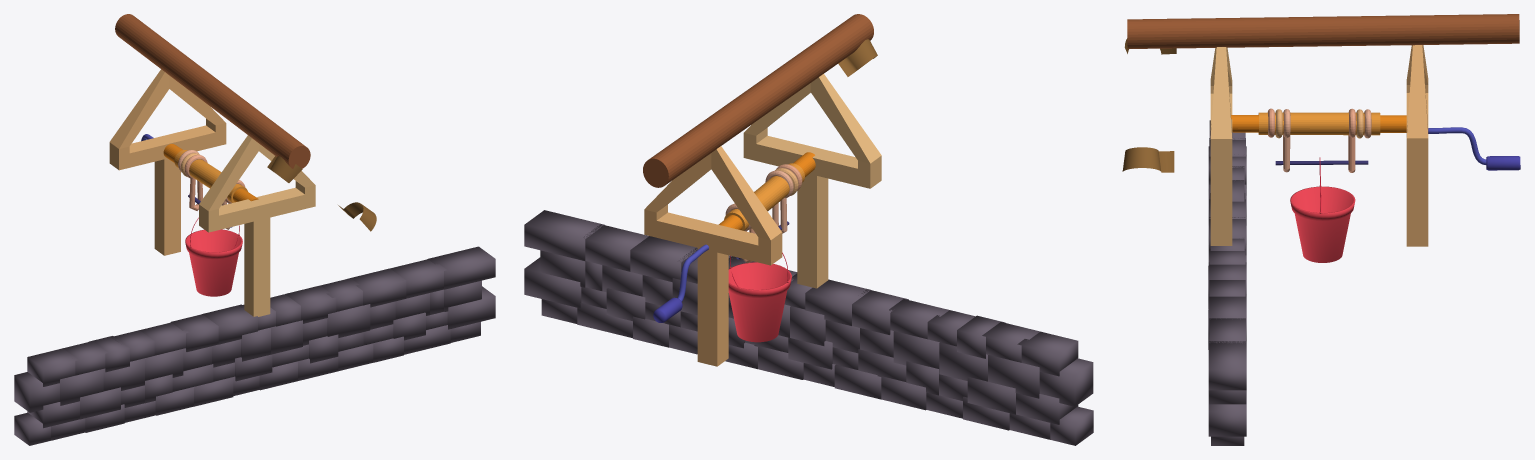
The model's file is water_well.glb.
3 renders of one model, left to right at view 1: azimuth 30°, elevation 25°; view 2: azimuth 150°, elevation 25°; view 3: azimuth 270°, elevation 25°, orthographic. The views are drawn at different scales.
Parts seen in each view (by area): view 1: Wall.001, Cube.001, Cube.002, Cylinder.008, Cylinder.007, Cylinder.001, Cylinder.004, Circle.001, Circle; view 2: Wall.001, Cube.001, Cube.002, Cylinder.008, Cylinder.007, Cylinder.001, Cylinder.003, Circle, Cylinder; view 3: Cylinder.008, Wall.001, Cube.001, Cube.002, Cylinder.007, Cylinder.001, Circle.001, Cylinder, Cylinder.003, Cylinder.004, Cylinder.005, BézierCurve.001 (+1 smaller).
Part boxes in pixels (x1,y1,x2,y2): Wall.001: [14, 246, 495, 445]; Cube.001: [109, 69, 226, 255]; Cube.002: [199, 135, 315, 316]; Cylinder.008: [115, 14, 310, 168]; Cylinder.007: [185, 229, 242, 296]; Cylinder.001: [174, 150, 247, 202]; Cylinder.004: [184, 154, 245, 210]; Circle.001: [338, 202, 376, 231]; Circle: [267, 156, 302, 182]; Wall.001: [524, 210, 1093, 445]; Cube.001: [644, 146, 782, 366]; Cube.002: [743, 74, 881, 288]; Cylinder.008: [643, 14, 873, 187]; Cylinder.007: [728, 262, 791, 342]; Cylinder.001: [724, 163, 804, 230]; Cylinder.003: [725, 170, 793, 233]; Circle: [838, 39, 877, 76]; Cylinder: [718, 152, 815, 229]; Cylinder.008: [1127, 14, 1519, 48]; Wall.001: [1208, 120, 1246, 445]; Cube.001: [1406, 45, 1428, 246]; Cube.002: [1210, 47, 1232, 245]; Cylinder.007: [1290, 185, 1355, 262]; Cylinder.001: [1258, 112, 1380, 135]; Circle.001: [1122, 147, 1174, 172]; Cylinder: [1231, 115, 1406, 132]; Cylinder.003: [1283, 109, 1371, 172]; Cylinder.004: [1267, 108, 1355, 172]; Cylinder.005: [1486, 156, 1520, 170]; BézierCurve.001: [1428, 127, 1486, 164].
Bounding box in the file's own units: 20.77 × 11.72 × 13.62.
